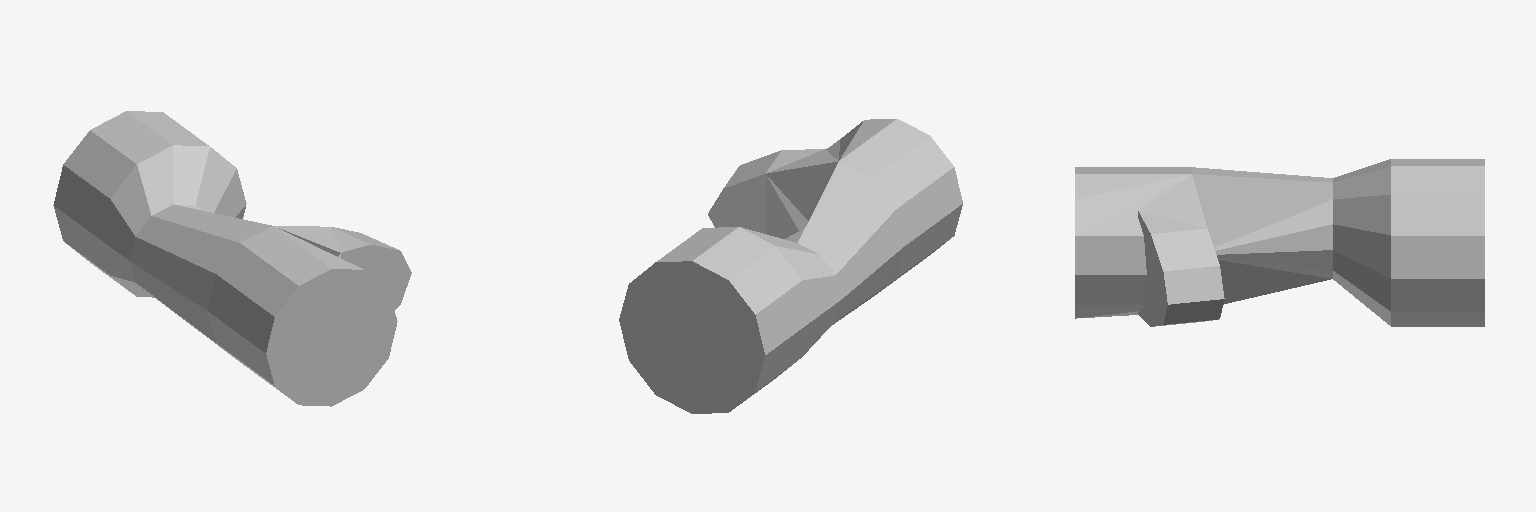
File: body_link2.obj
The picture shows the model from 3 angles: view 1: azimuth 30°, elevation 25°; view 2: azimuth 150°, elevation 25°; view 3: azimuth 270°, elevation 25°; orthographic projection.
Visible parts, largest first — view 1: body_link2_Cylinder.056; view 2: body_link2_Cylinder.056; view 3: body_link2_Cylinder.056.
Boxes of the visible parts, <box> form: body_link2_Cylinder.056: <box>53,111,411,406</box>; body_link2_Cylinder.056: <box>619,119,962,413</box>; body_link2_Cylinder.056: <box>1075,159,1484,326</box>.
Bounding box in the file's own units: 0.0984 × 0.072 × 0.175.